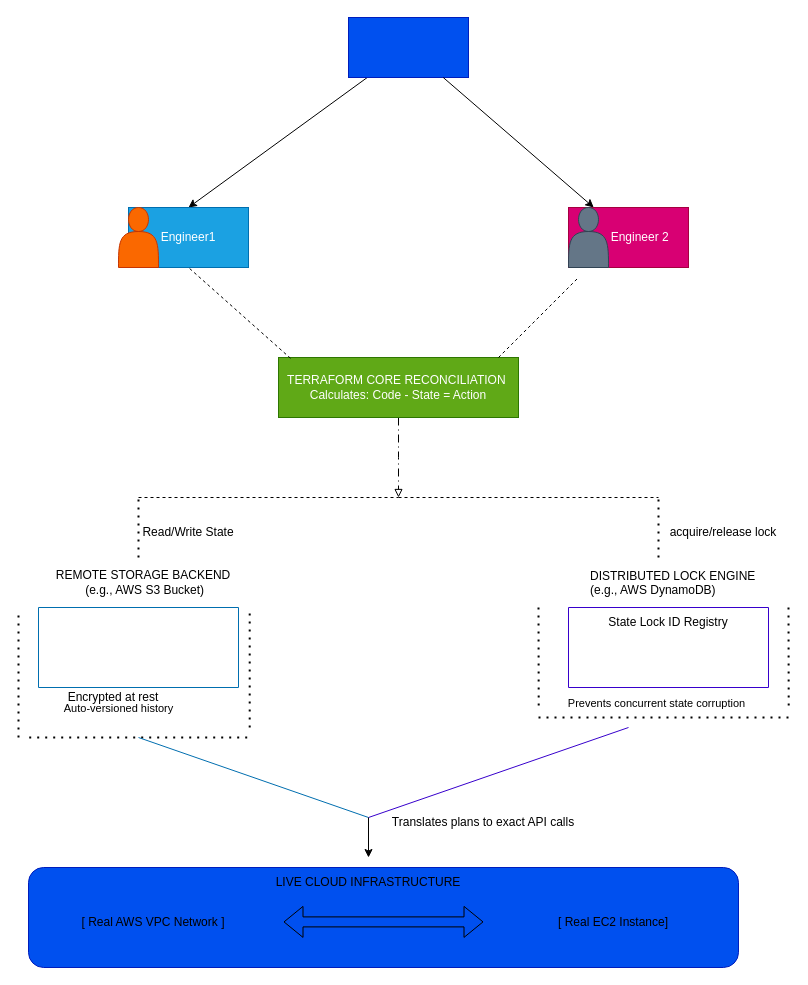
This 808x985 diagram has some shape labels left out. Each missing label, with the centre of its shape:
"JSON STATE METADATA" goes at [138,647].
"TEAM" goes at [408,47].
